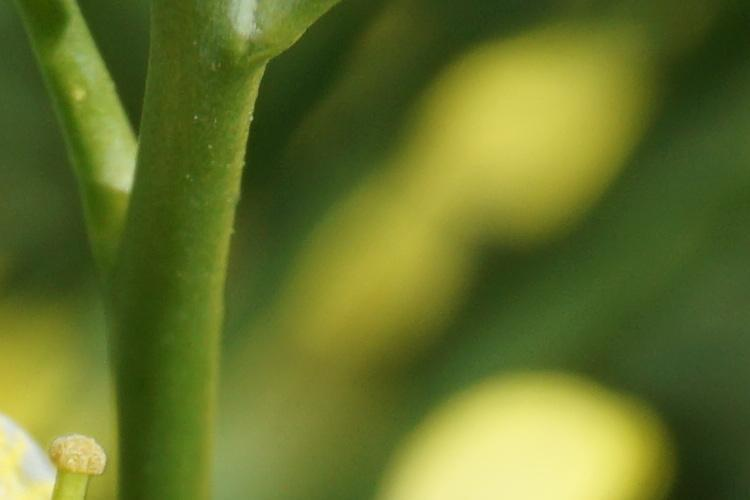bud: (37, 425, 126, 500)
